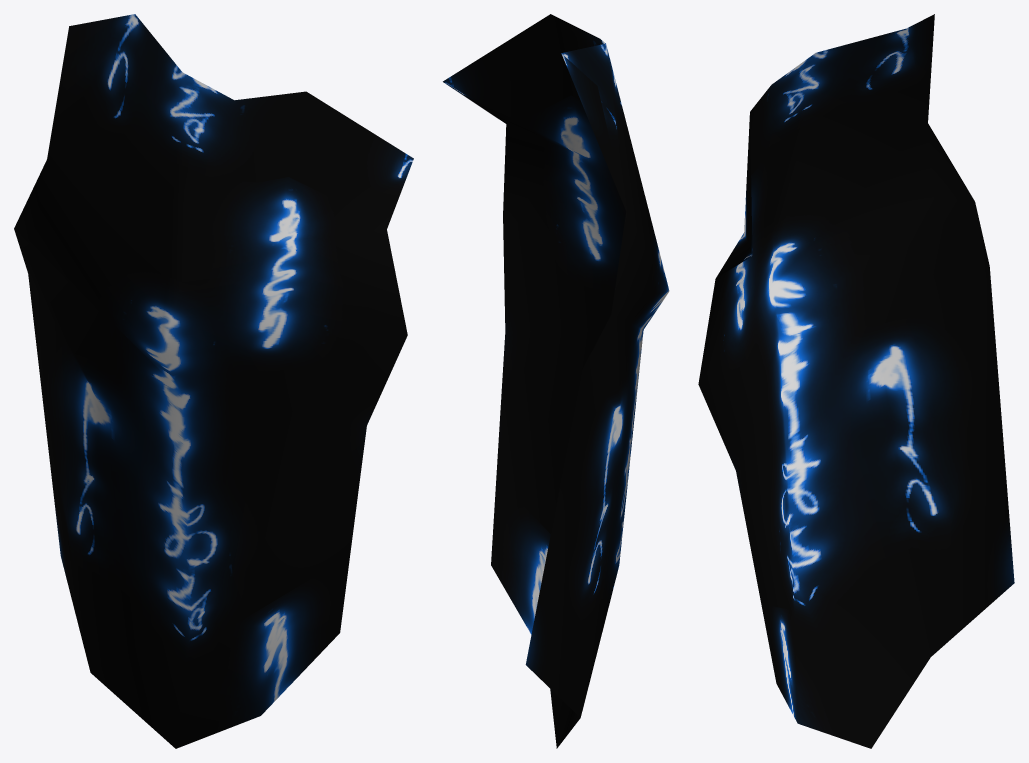
The model's file is fx_mod_fuwen_01.FBX.
3 renders of one model, left to right at view 1: azimuth 30°, elevation 25°; view 2: azimuth 150°, elevation 25°; view 3: azimuth 270°, elevation 25°, orthographic. The views are drawn at different scales.
Parts seen in each view (by area): view 1: fx_mod_fuwen_01; view 2: fx_mod_fuwen_01; view 3: fx_mod_fuwen_01.
Boxes of the visible parts, x1,y1,x2,y2 form: fx_mod_fuwen_01: (14,14,413,748); fx_mod_fuwen_01: (443,14,669,748); fx_mod_fuwen_01: (698,14,1014,748).
Bounding box in the file's own units: 115 × 276 × 111.
Materials: 1 (1 with a texture image).
